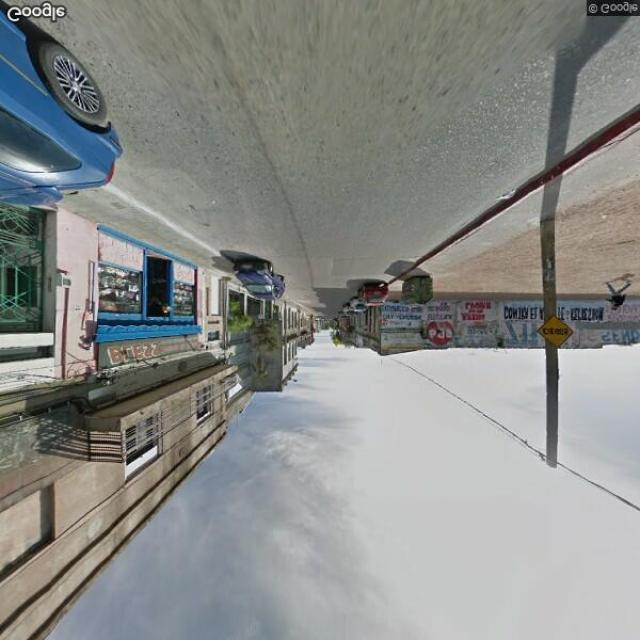garbage container: (396, 268, 444, 313)
